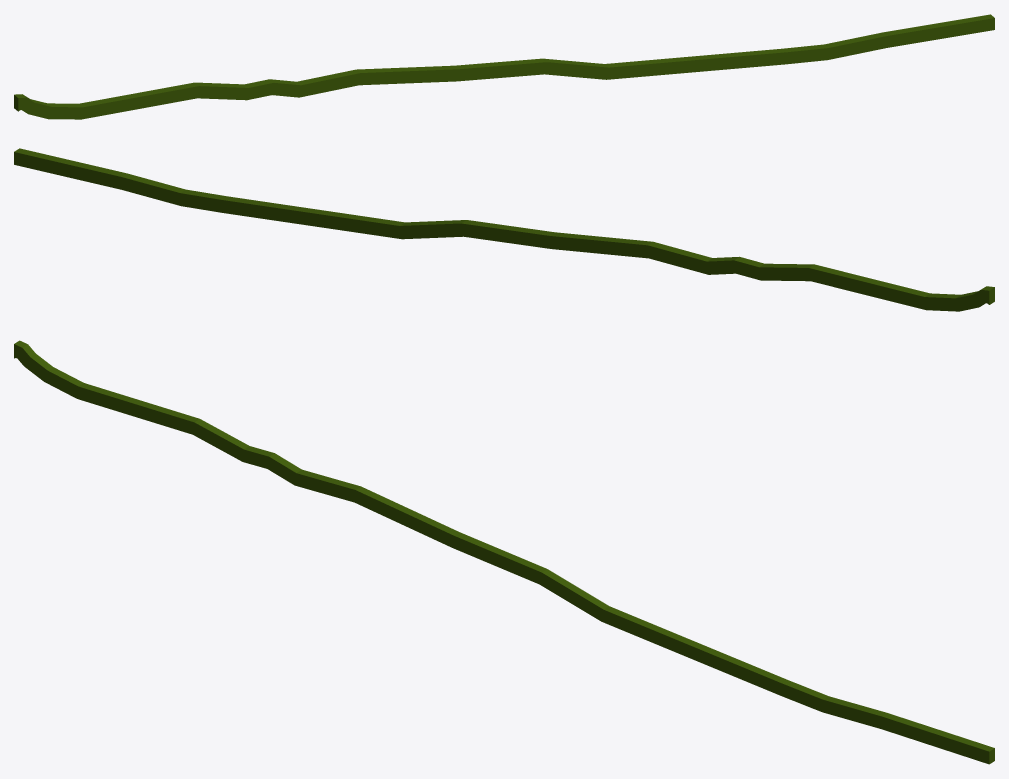
The model's file is Prop_Vegetation_Jungle_Vine_Outstretched_01.FBX.
3 renders of one model, top to bottom at view 1: azimuth 30°, elevation 25°; view 2: azimuth 150°, elevation 25°; view 3: azimuth 330°, elevation 25°, orthographic. The views are drawn at different scales.
Parts seen in each view (by area): view 1: Prop_Vegetation_Jungle_Vine_Outstretched_01; view 2: Prop_Vegetation_Jungle_Vine_Outstretched_01; view 3: Prop_Vegetation_Jungle_Vine_Outstretched_01.
Boxes of the visible parts, x1=… form: Prop_Vegetation_Jungle_Vine_Outstretched_01: x1=14, y1=14, x2=994, y2=119; Prop_Vegetation_Jungle_Vine_Outstretched_01: x1=14, y1=148, x2=994, y2=311; Prop_Vegetation_Jungle_Vine_Outstretched_01: x1=14, y1=340, x2=994, y2=764.
Size of the model in its own units: 4408 by 613 by 310.
